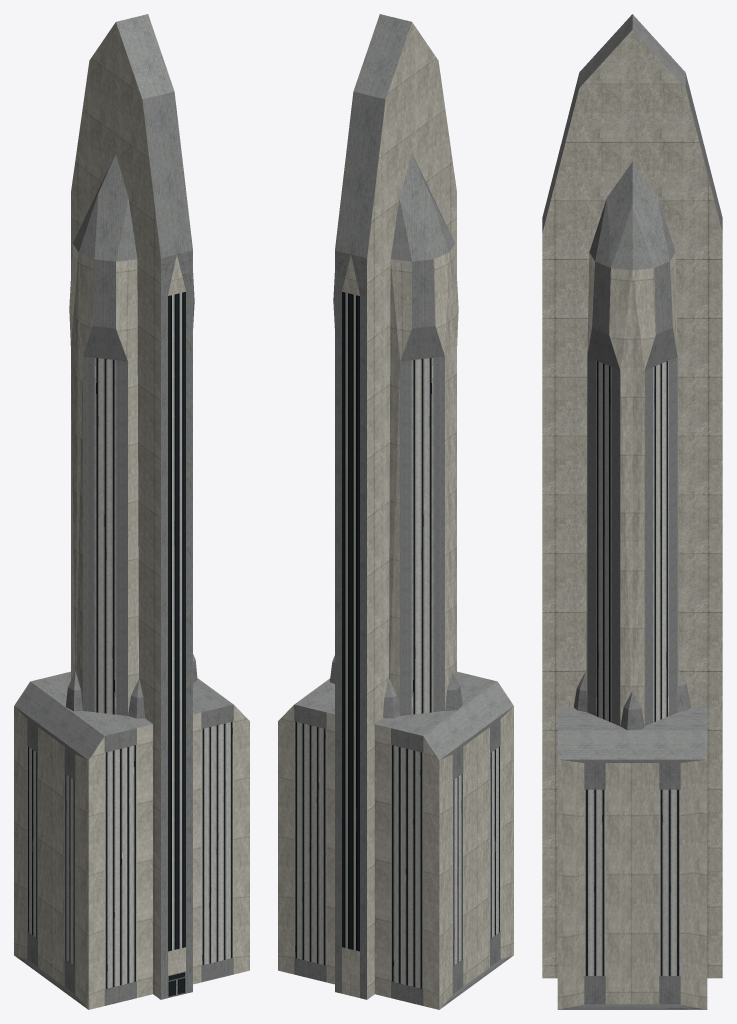
Rendered from thm_corl_skyskraper_s02_r0_mesh_l2.fbx.
3 views of the same model, side by side, from view 1: azimuth 30°, elevation 25°; view 2: azimuth 150°, elevation 25°; view 3: azimuth 270°, elevation 25° (orthographic).
Parts seen in each view (by area): view 1: mesh_node; view 2: mesh_node; view 3: mesh_node.
Part boxes in pixels (x1=…): mesh_node: x1=14, y1=14, x2=249, y2=1009; mesh_node: x1=278, y1=14, x2=513, y2=1009; mesh_node: x1=542, y1=14, x2=722, y2=1009.
Size of the model in its own units: 34.5 by 193 by 33.32.
